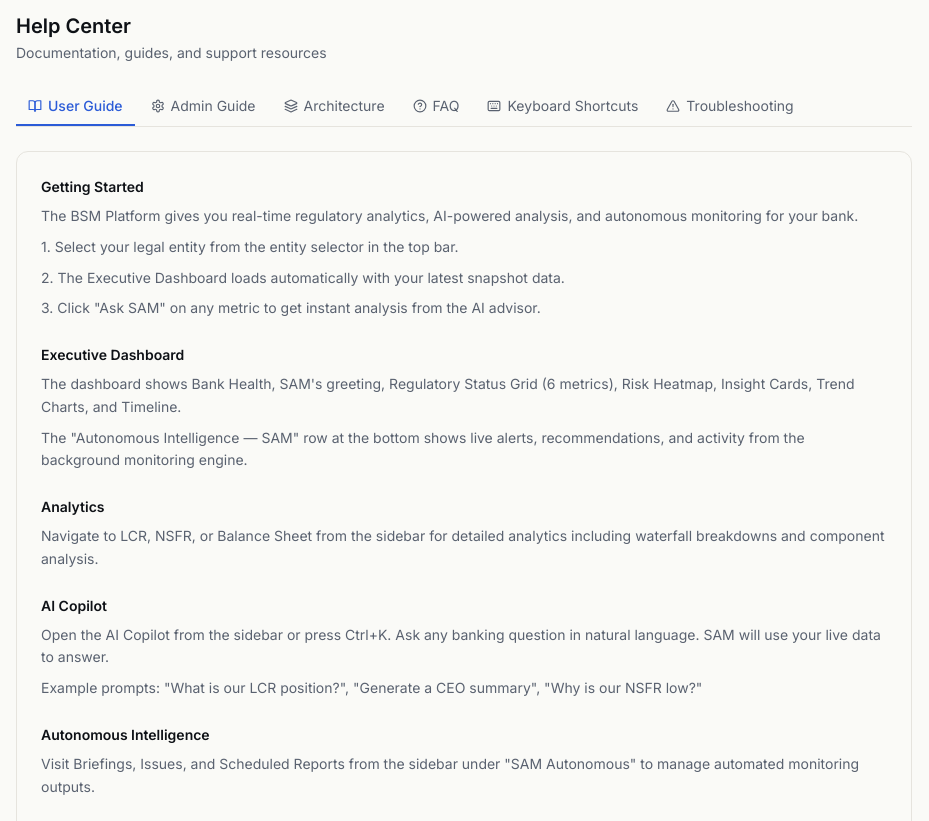
Test: HelpCenterPage › clicking Troubleshooting tab shows troubleshooting content
This screenshot has width=929, height=821.
Step 1. Click the button "Troubleshooting" → [730, 106], box [654, 87, 806, 126]
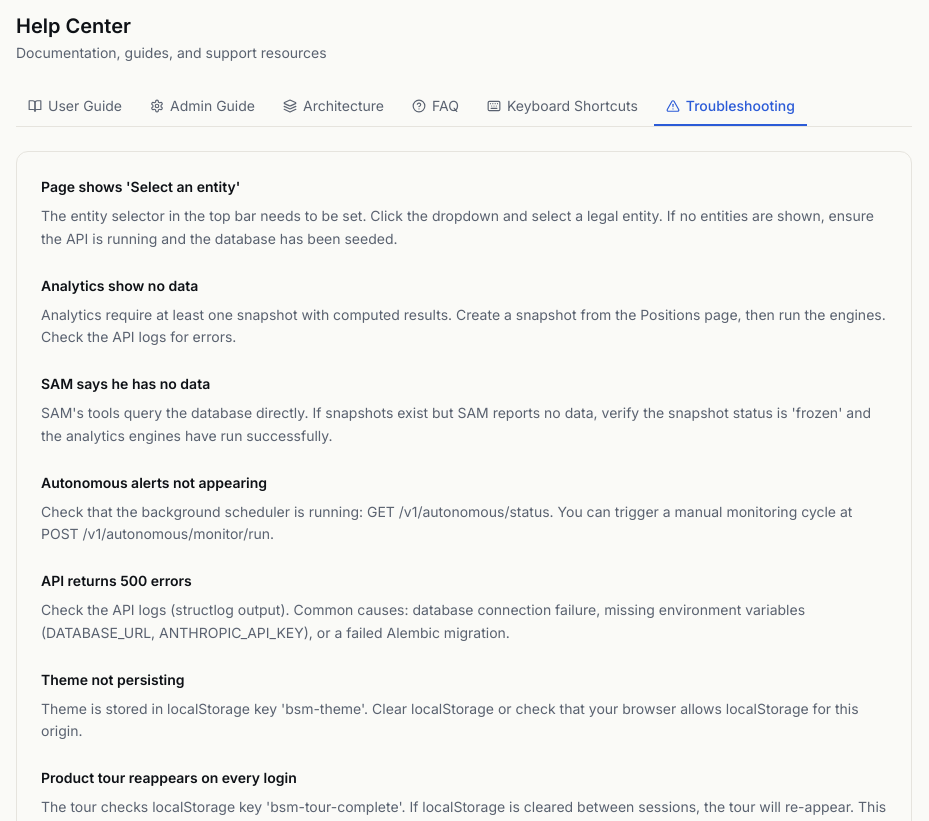
Result: the heading "SAM says he has no data" is shown at [41, 375, 210, 392]
